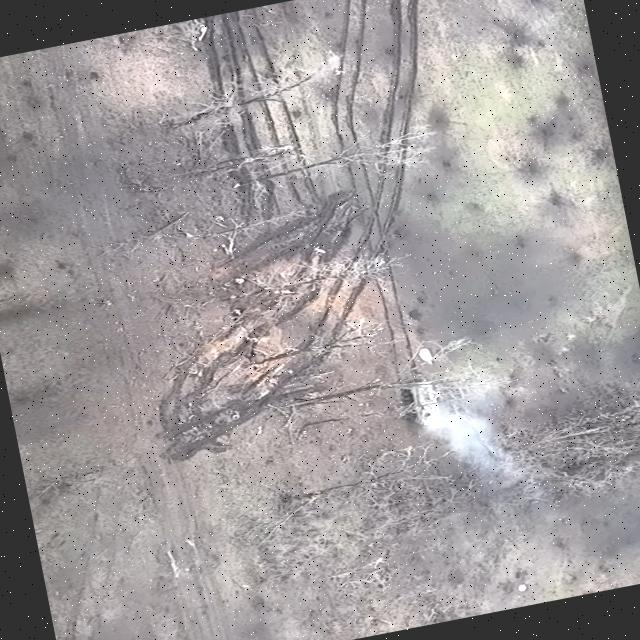AIFV: (398, 378, 447, 430)
